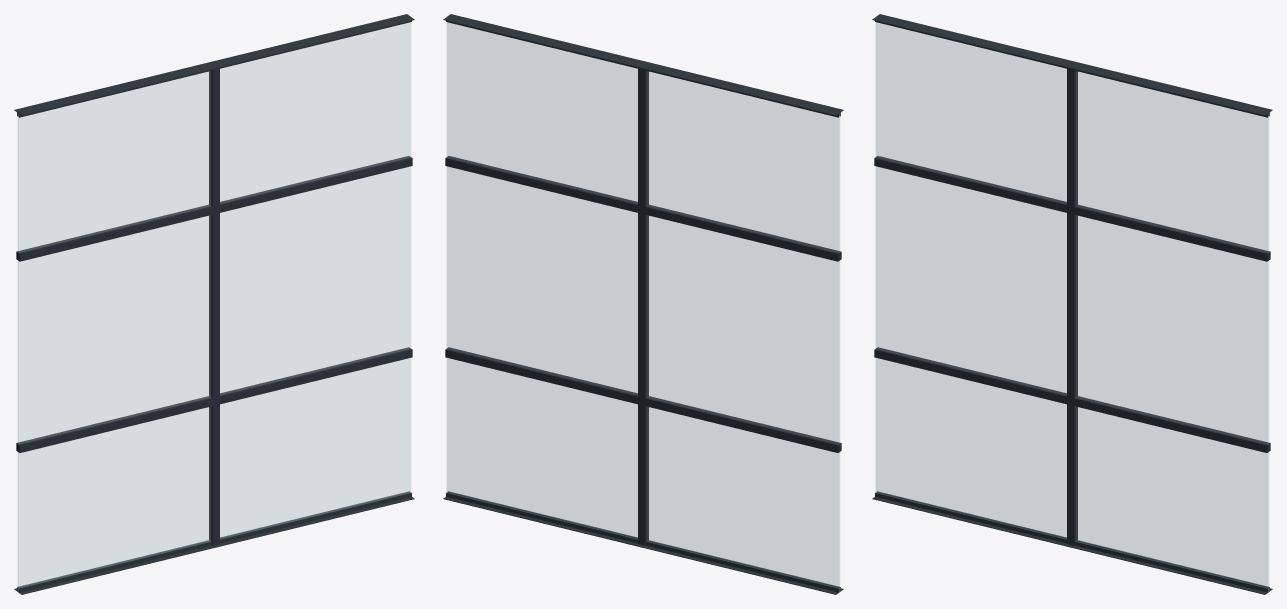
The picture shows the model from 3 angles, left to right: view 1: azimuth 30°, elevation 25°; view 2: azimuth 150°, elevation 25°; view 3: azimuth 330°, elevation 25°; orthographic projection.
Visible parts, largest first — view 1: pane-c1-r2, pane-c2-r2, pane-c1-r3, pane-c1-r1, pane-c2-r3, pane-c2-r1, mullion-1, head-web, transom-c1-r1, transom-c1-r2, transom-c2-r1, transom-c2-r2 (+4 smaller); view 2: pane-c1-r2, pane-c2-r2, pane-c1-r3, pane-c1-r1, pane-c2-r3, pane-c2-r1, mullion-1, head-web, transom-c1-r1, transom-c1-r2, transom-c2-r1, transom-c2-r2 (+4 smaller); view 3: pane-c2-r2, pane-c1-r2, pane-c2-r3, pane-c2-r1, pane-c1-r3, pane-c1-r1, mullion-1, head-web, transom-c2-r1, transom-c2-r2, transom-c1-r1, transom-c1-r2 (+4 smaller).
Boxes of the visible parts, x1,y1,x2,y2 form: pane-c1-r2: (18,215,210,444); pane-c2-r2: (220,166,410,394); pane-c1-r3: (18,71,210,252); pane-c1-r1: (18,407,210,591); pane-c2-r3: (220,22,410,203); pane-c2-r1: (220,358,410,538); mullion-1: (209,67,219,545); head-web: (14,14,414,115); transom-c1-r1: (16,396,212,452); transom-c1-r2: (16,204,212,261); transom-c2-r1: (220,347,412,404); transom-c2-r2: (220,156,412,212); pane-c1-r2: (647,215,839,444); pane-c2-r2: (447,166,637,394); pane-c1-r3: (647,71,839,252); pane-c1-r1: (647,407,839,591); pane-c2-r3: (447,22,637,203); pane-c2-r1: (447,358,637,538); mullion-1: (638,67,648,545); head-web: (443,14,843,115); transom-c1-r1: (645,396,841,452); transom-c1-r2: (645,204,841,261); transom-c2-r1: (445,347,637,404); transom-c2-r2: (445,156,637,212); pane-c2-r2: (1076,215,1268,444); pane-c1-r2: (876,166,1066,394); pane-c2-r3: (1076,71,1268,252); pane-c2-r1: (1076,407,1268,591); pane-c1-r3: (876,22,1066,203); pane-c1-r1: (876,358,1066,538); mullion-1: (1067,67,1077,545); head-web: (872,14,1272,115); transom-c2-r1: (1074,396,1270,452); transom-c2-r2: (1074,204,1270,261); transom-c1-r1: (874,347,1066,404); transom-c1-r2: (874,156,1066,212).
Bounding box in the file's own units: 2.4 × 2.8 × 0.08.
